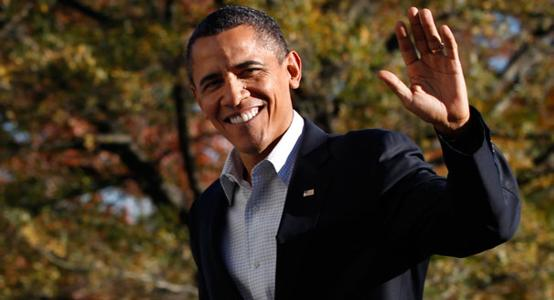person: (185, 6, 521, 300)
